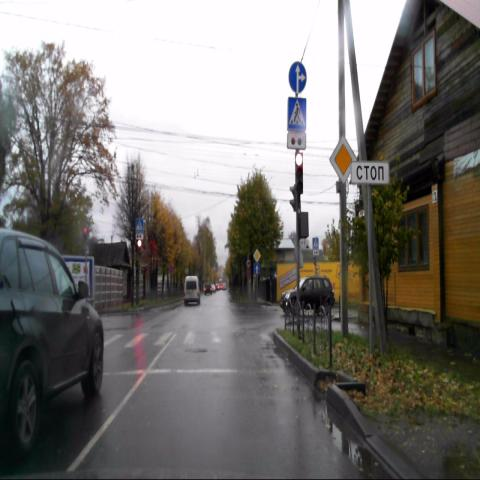8_15: (286, 131, 306, 150)
